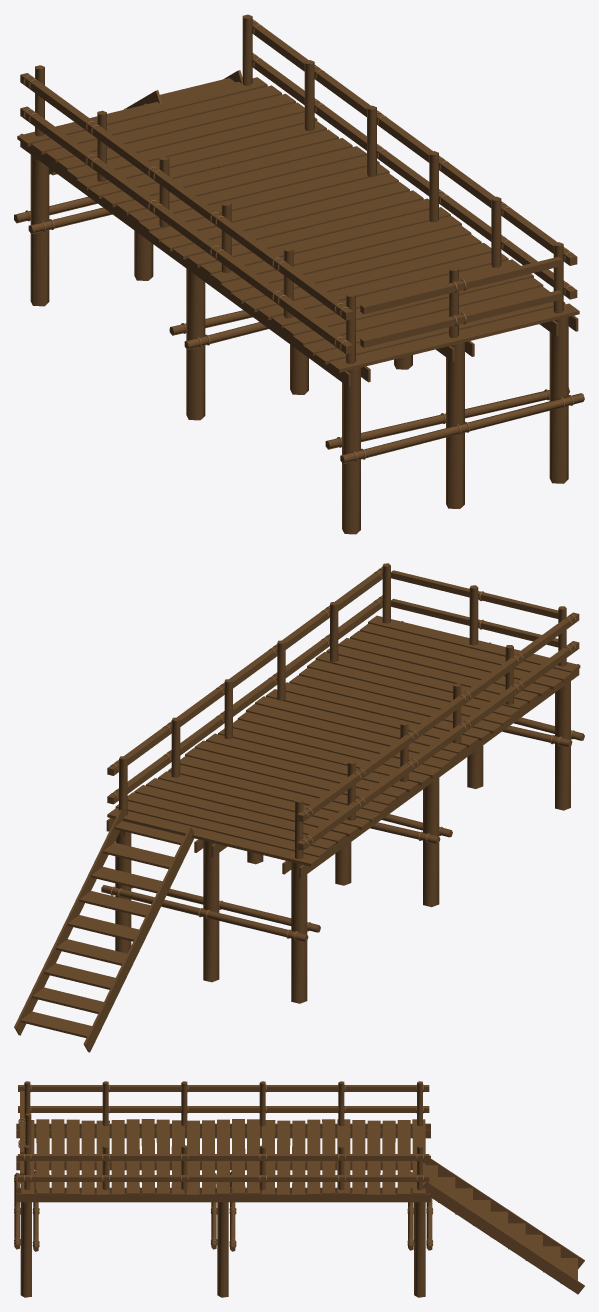
File: Wooden Platforms.glb
3 views of the same model, one above another, from view 1: azimuth 30°, elevation 25°; view 2: azimuth 150°, elevation 25°; view 3: azimuth 270°, elevation 25° (orthographic). The views are drawn at different scales.
Parts seen in each view (by area): view 1: Root; view 2: Root; view 3: Root.
Boxes of the visible parts, <box> form: Root: <box>14,14,584,534</box>; Root: <box>14,563,584,1052</box>; Root: <box>14,1081,584,1297</box>.
Bounding box in the file's own units: 3.08 × 2.83 × 9.83.
